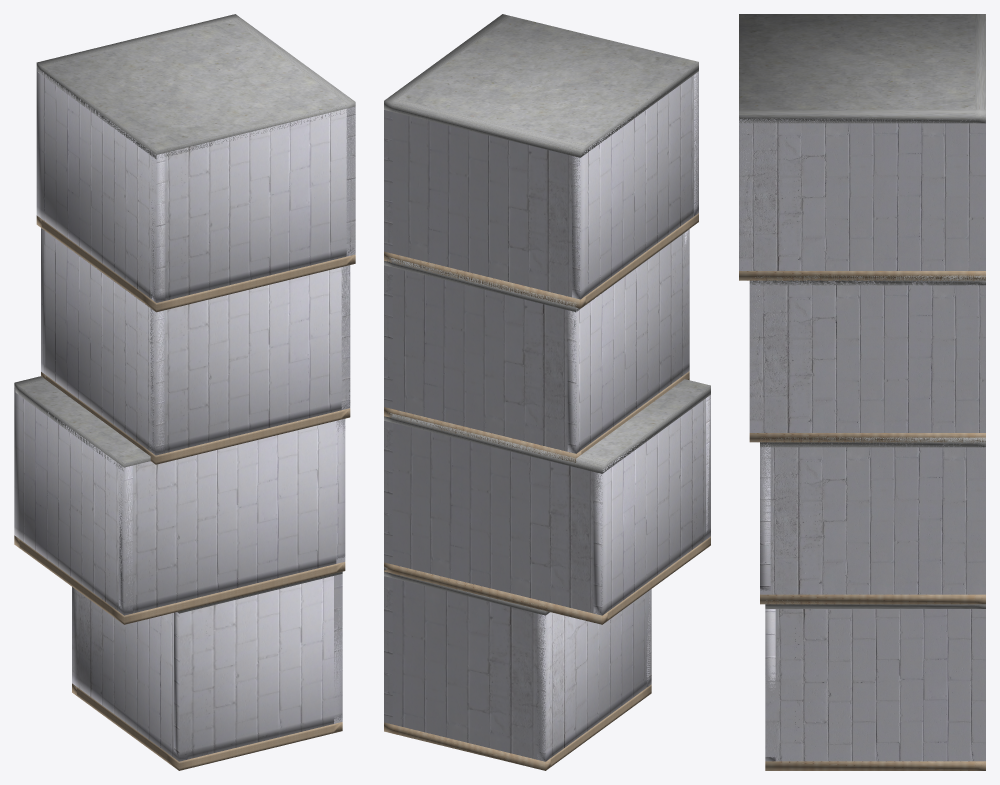
Rendered from Level4.fbx.
The picture shows the model from 3 angles, left to right: view 1: azimuth 30°, elevation 25°; view 2: azimuth 150°, elevation 25°; view 3: azimuth 270°, elevation 25°; orthographic projection. The views are drawn at different scales.
Visible parts, largest first — view 1: Cube.011, Cube.029, Cube.020, Cube.035, Cube.002, Cube.031, Cube.022, Cube.013, Cube.004, Cube.017, Cube.009, Cube.027 (+5 smaller); view 2: Cube.010, Cube.028, Cube.035, Cube.019, Cube.001, Cube.031, Cube.022, Cube.013, Cube.004, Cube.017, Cube.009, Cube.027 (+9 smaller); view 3: Cube.030, Cube.021, Cube.003, Cube.012, Cube.035, Cube.009, Cube.027, Cube.018, Cube, Cube.017, Cube.026, Cube.011 (+2 smaller).
Boxes of the visible parts, x1,y1,x2,y2 form: Cube.011: (119,419,345,613); Cube.029: (151,107,355,302); Cube.020: (150,265,350,455); Cube.035: (36,14,355,159); Cube.002: (174,576,342,759); Cube.031: (36,68,165,302); Cube.022: (41,228,164,455); Cube.013: (14,387,132,615); Cube.004: (72,587,187,761); Cube.017: (14,376,150,470); Cube.009: (14,535,345,624); Cube.027: (36,215,355,312); Cube.010: (392,423,602,614); Cube.028: (392,112,580,298); Cube.035: (384,14,698,157); Cube.019: (392,267,576,453); Cube.001: (392,578,545,760); Cube.031: (572,71,698,299); Cube.022: (567,229,689,453); Cube.013: (593,395,710,615); Cube.004: (537,589,651,761); Cube.017: (384,379,710,473); Cube.009: (384,536,710,624); Cube.027: (384,213,698,308); Cube.030: (739,118,985,270); Cube.021: (749,280,985,432); Cube.003: (765,609,985,761); Cube.012: (760,442,985,594); Cube.035: (739,14,985,123); Cube.009: (760,594,985,604); Cube.027: (739,271,985,280); Cube.018: (749,433,985,442); Cube: (765,761,985,770); Cube.017: (760,437,985,447); Cube.026: (749,275,985,285); Cube.011: (760,443,770,590).
Bounding box in the file's own units: 50 × 138 × 47.
